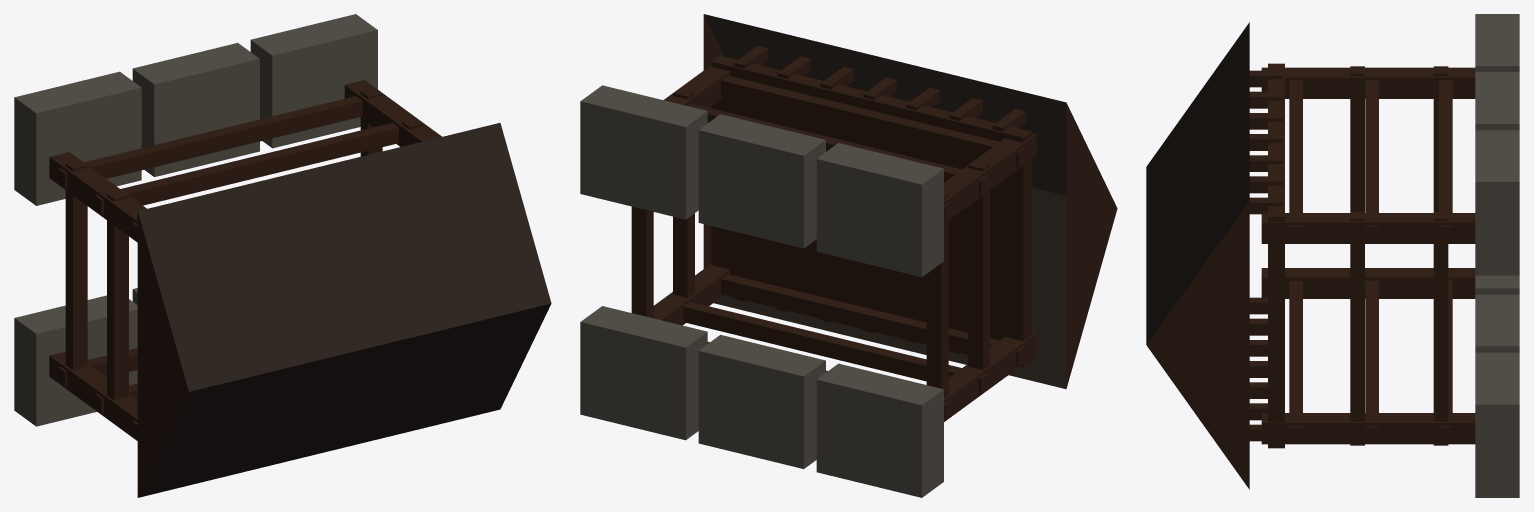
File: SM_VelegardGatehouse_1348_LOD1.obj
3 renders of one model, left to right at view 1: azimuth 30°, elevation 25°; view 2: azimuth 150°, elevation 25°; view 3: azimuth 270°, elevation 25°, orthographic.
Visible parts, largest first — view 1: SM_VelegardGatehouse_1348_LOD1; view 2: SM_VelegardGatehouse_1348_LOD1; view 3: SM_VelegardGatehouse_1348_LOD1.
Part boxes in pixels (x1,y1,x2,y2): SM_VelegardGatehouse_1348_LOD1: [14, 14, 551, 497]; SM_VelegardGatehouse_1348_LOD1: [580, 14, 1117, 497]; SM_VelegardGatehouse_1348_LOD1: [1146, 14, 1519, 497].
Bounding box in the file's own units: 860 × 710 × 760.
